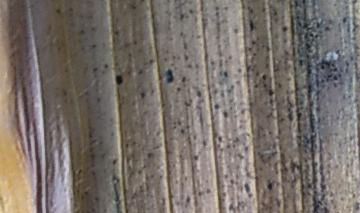tarspot: (164, 66, 175, 83), (115, 73, 123, 85), (249, 19, 255, 32), (280, 24, 289, 32), (267, 88, 274, 98), (267, 183, 274, 191), (262, 73, 267, 80)
